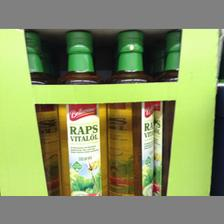Oel: (105, 30, 155, 196), (57, 31, 107, 194)
